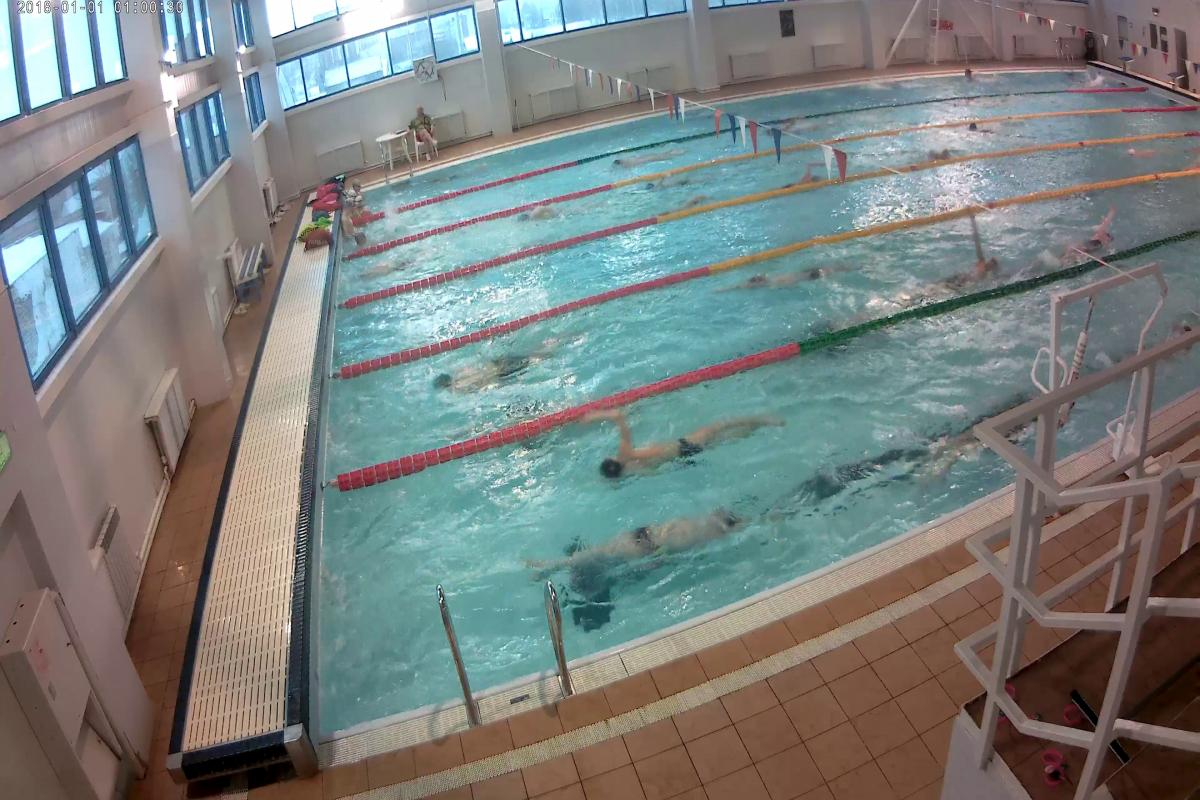swimmer: (598, 418, 769, 483), (577, 510, 737, 570), (429, 341, 554, 398), (910, 247, 1003, 300), (724, 248, 846, 285), (931, 422, 999, 483), (1046, 213, 1124, 262), (783, 160, 826, 189)
